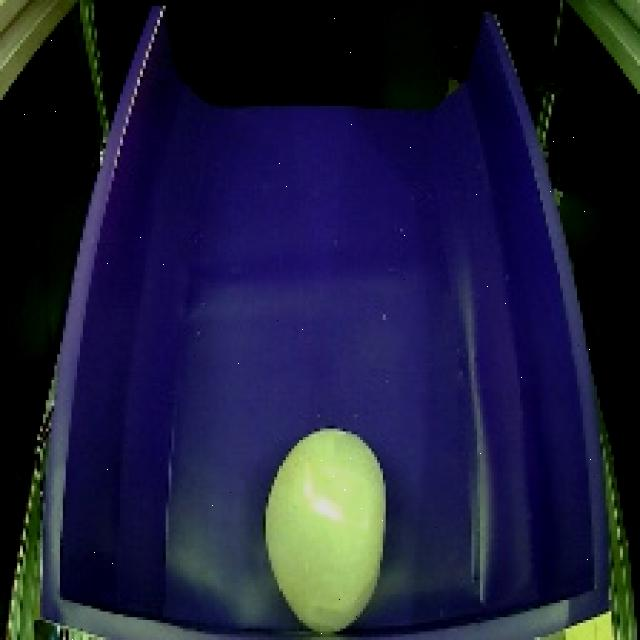cobbles: (257, 420, 397, 640)
